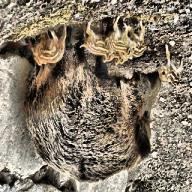boar: (21, 26, 161, 184)
